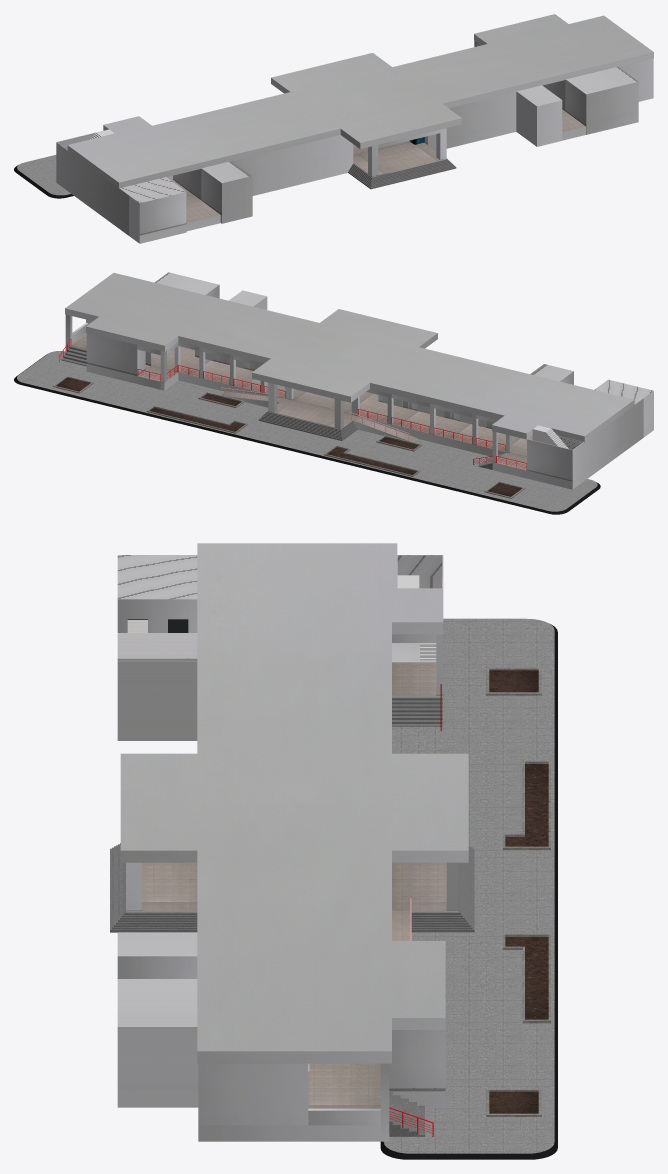
Rendered from mapgameNEW 1.fbx.
The picture shows the model from 3 angles, top to bottom: view 1: azimuth 30°, elevation 25°; view 2: azimuth 150°, elevation 25°; view 3: azimuth 270°, elevation 25°; orthographic projection. The views are drawn at different scales.
Parts seen in each view (by area): view 1: Cube.018, Cube.007, Plane.006, Cube.011; view 2: Cube.018, Cube.007, Plane.006, Cube.027, Cube.010, Cube.028, Cube.026, Cube.013, Cube.017, Cube.009; view 3: Cube.018, Cube.007, Plane.006, Cube.027, Cube.028, Cube.011, Cube.010, Cube.008, Cube.009.
Boxes of the visible parts, bbox=[...] form: Cube.018: bbox=[67, 14, 653, 188]; Cube.007: bbox=[56, 40, 653, 243]; Plane.006: bbox=[14, 155, 73, 198]; Cube.011: bbox=[348, 145, 456, 189]; Cube.018: bbox=[65, 273, 634, 442]; Cube.007: bbox=[65, 272, 653, 489]; Plane.006: bbox=[14, 351, 600, 514]; Cube.027: bbox=[146, 406, 420, 476]; Cube.010: bbox=[258, 403, 357, 440]; Cube.028: bbox=[52, 376, 525, 498]; Cube.026: bbox=[198, 392, 422, 451]; Cube.013: bbox=[138, 367, 526, 468]; Cube.017: bbox=[532, 425, 568, 448]; Cube.009: bbox=[61, 346, 86, 366]; Cube.018: bbox=[120, 543, 468, 1063]; Cube.007: bbox=[117, 555, 458, 1141]; Plane.006: bbox=[380, 618, 557, 1159]; Cube.027: bbox=[503, 760, 550, 1023]; Cube.028: bbox=[486, 667, 541, 1116]; Cube.011: bbox=[110, 843, 197, 932]; Cube.010: bbox=[411, 846, 474, 932]; Cube.008: bbox=[392, 697, 442, 726]; Cube.009: bbox=[389, 1092, 424, 1136].
Bounding box in the file's own units: 17790 × 1444 × 6240.
